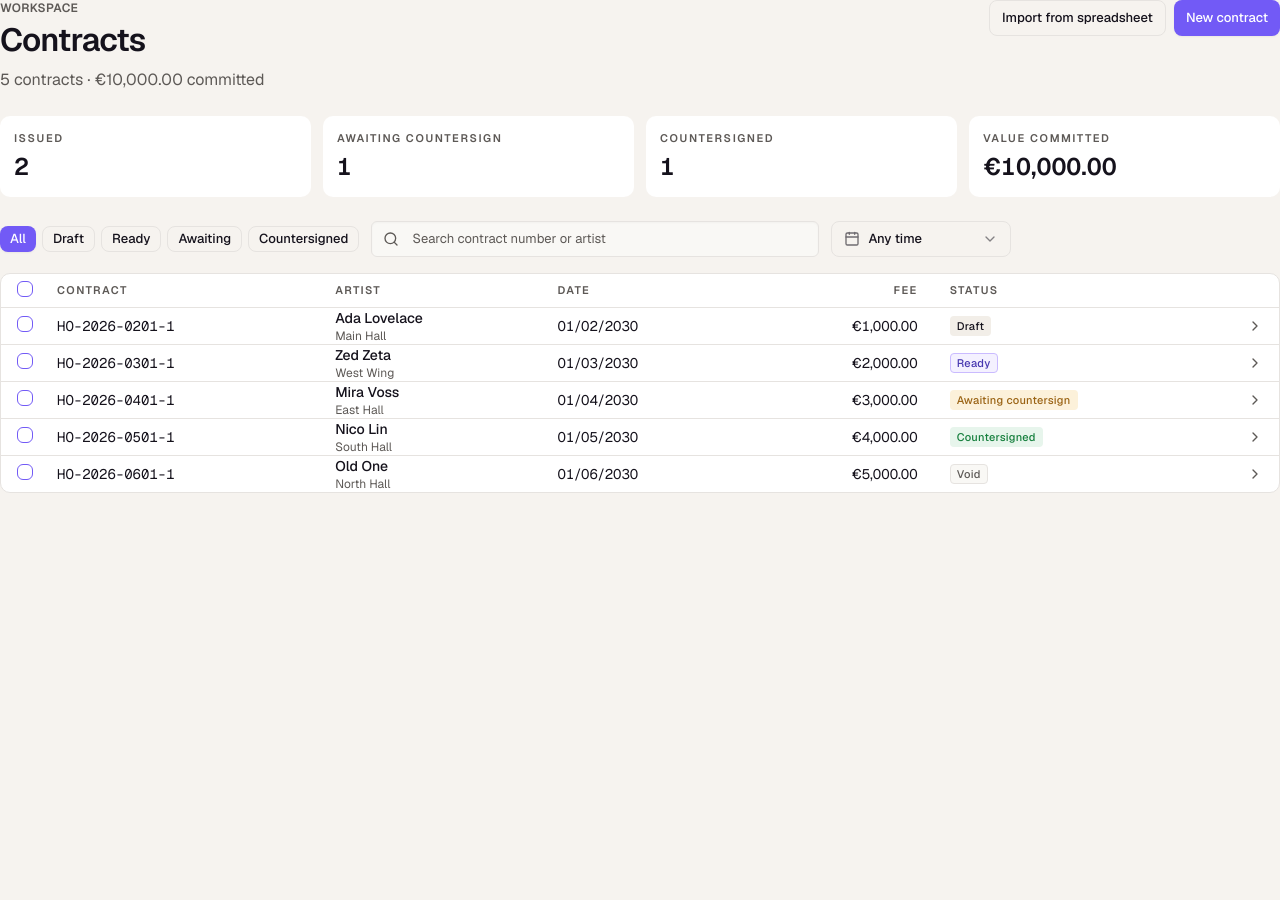
HireOrdersPage › shows Download and Mark countersigned for an issued order
The width and height of the screenshot is (1280, 900).
Click the text "HO-2026-0401-1".
click(116, 400)  # box top-left (57, 391), bottom-right (175, 409)
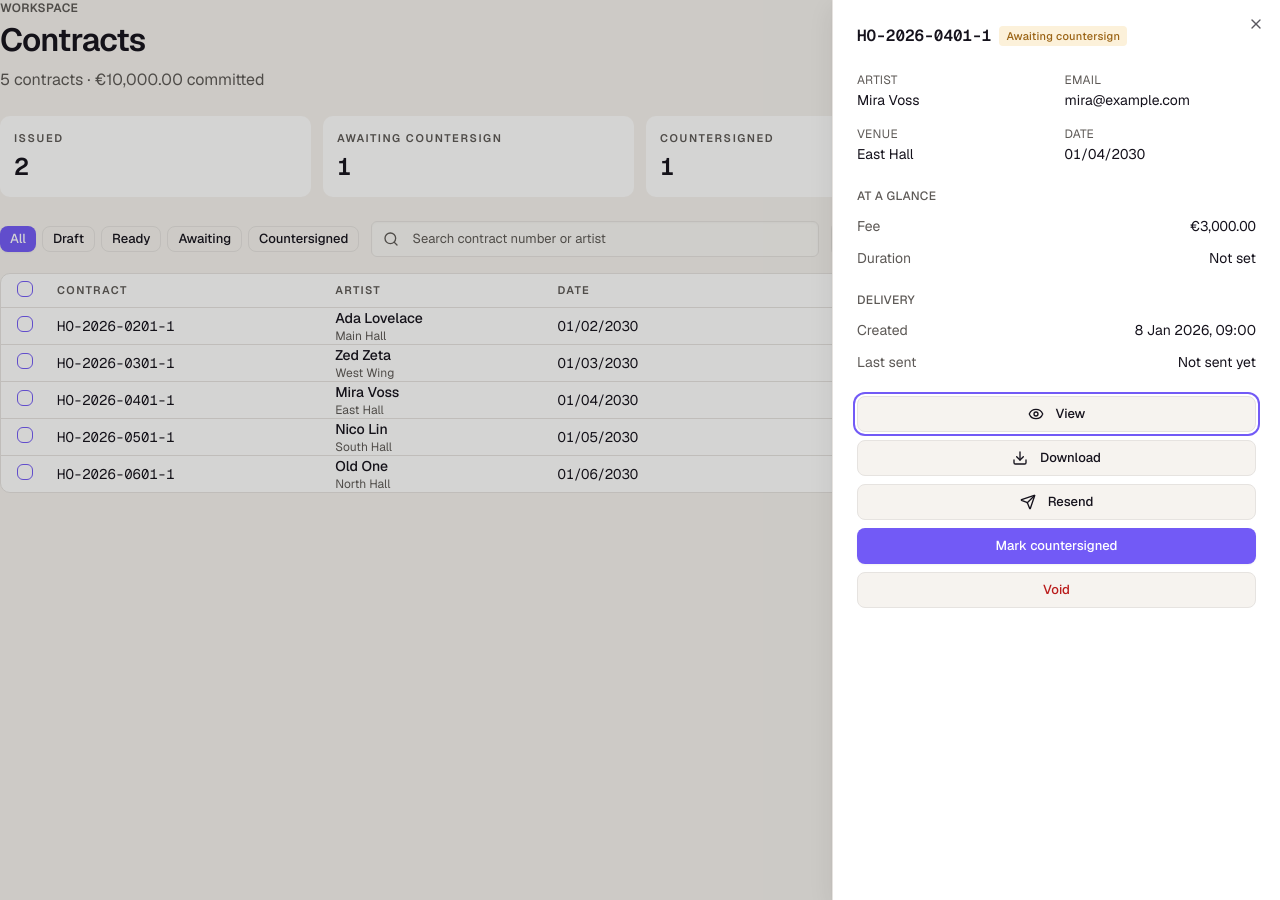
expect the button "Download" is shown: met, box top-left (857, 440), bottom-right (1256, 476)
expect the button "Mark countersigned" is shown: met, box top-left (857, 528), bottom-right (1256, 564)
